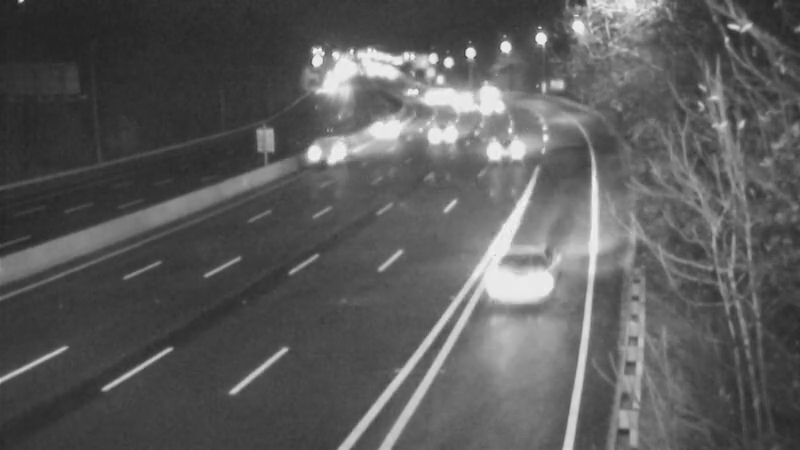vehicle: (461, 113, 541, 193), (293, 114, 373, 194), (487, 249, 567, 329), (458, 67, 508, 117), (460, 82, 510, 132), (433, 78, 483, 128), (356, 98, 406, 148), (423, 97, 473, 147)
